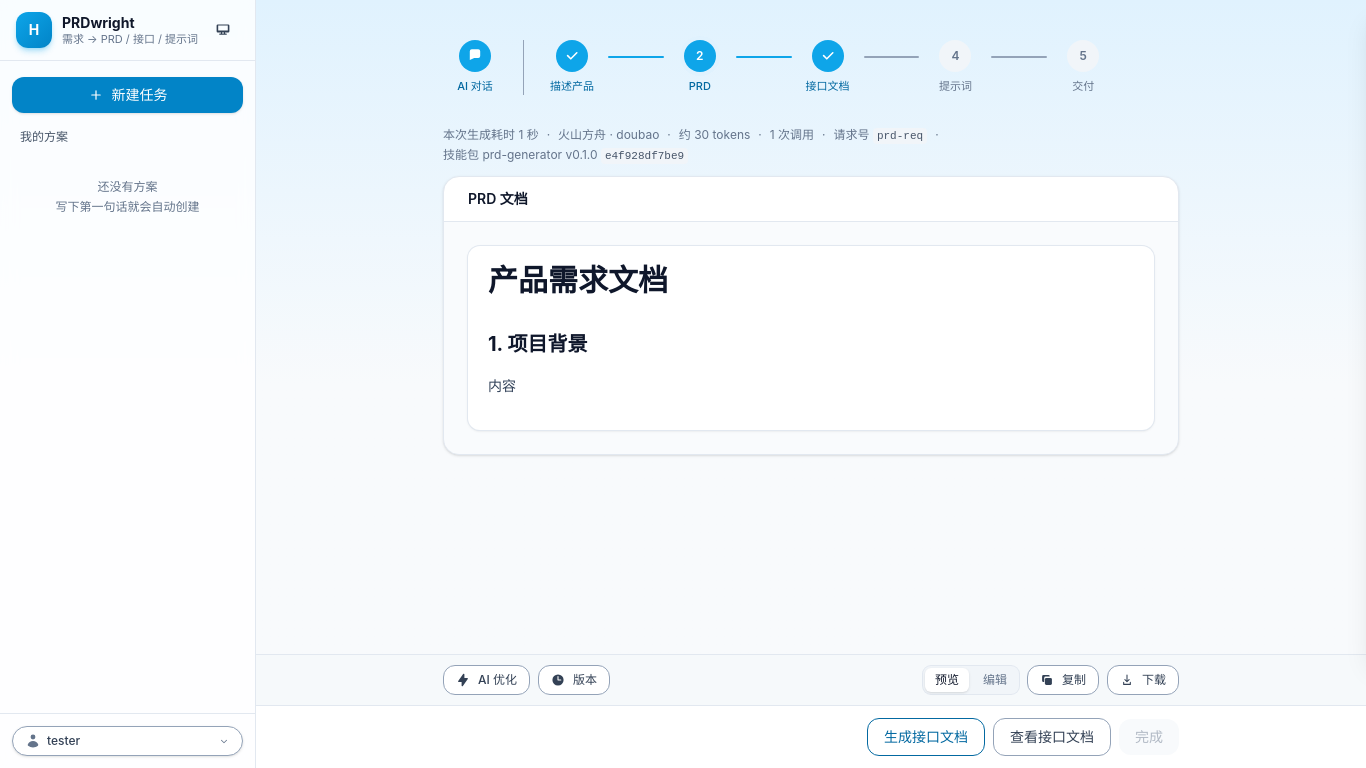
AppV2 完整流程编排 › 用量回执按文档各自留存：切到哪份文档就显示哪份的回执
Expected: the text "api-req" is not shown
Click the element showing "接口文档": x=828, y=66 [806,40,850,93]
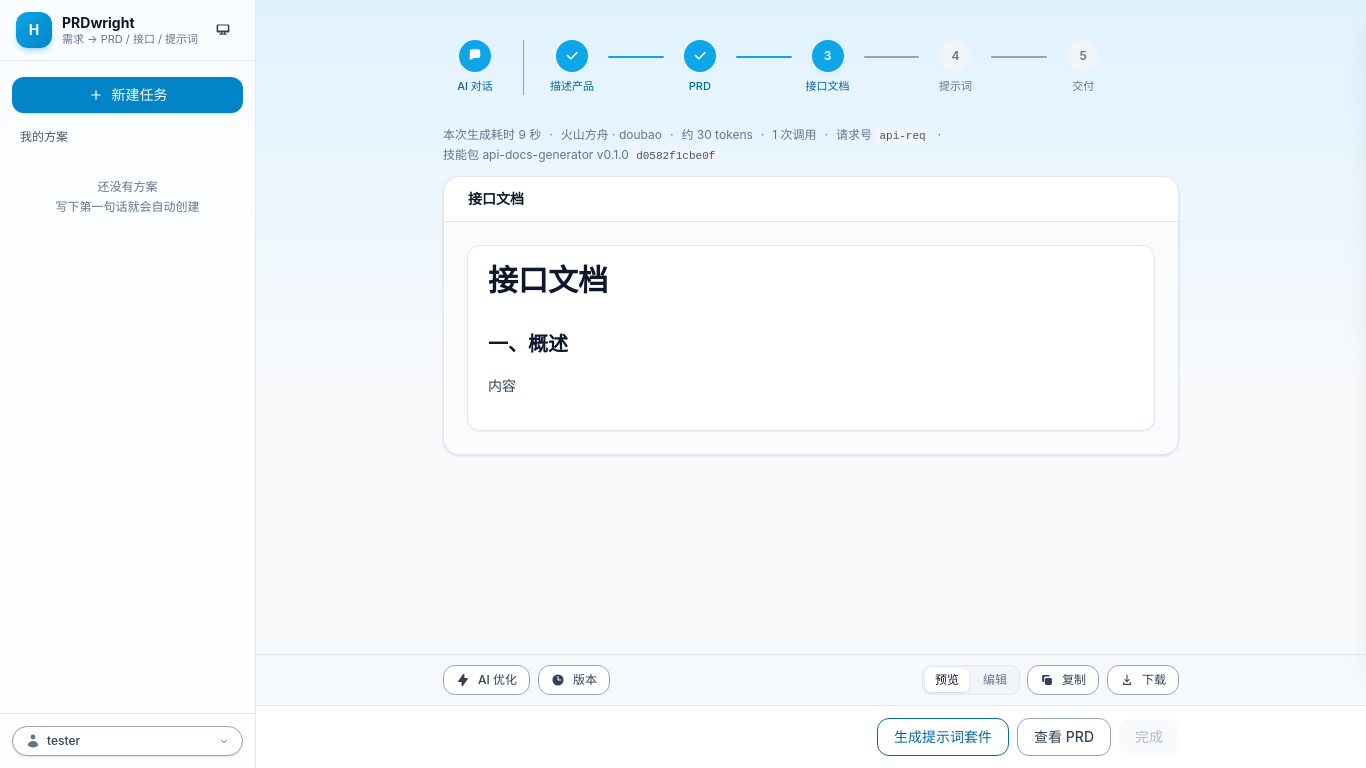
Expected: the text "api-req" is shown, [876,128,930,144]
Expected: the text "api-docs-generator" is shown, [443,147,632,162]
Expected: the text "prd-req" is gone
Click the element showing "PRD": x=700, y=66 [684,40,716,93]
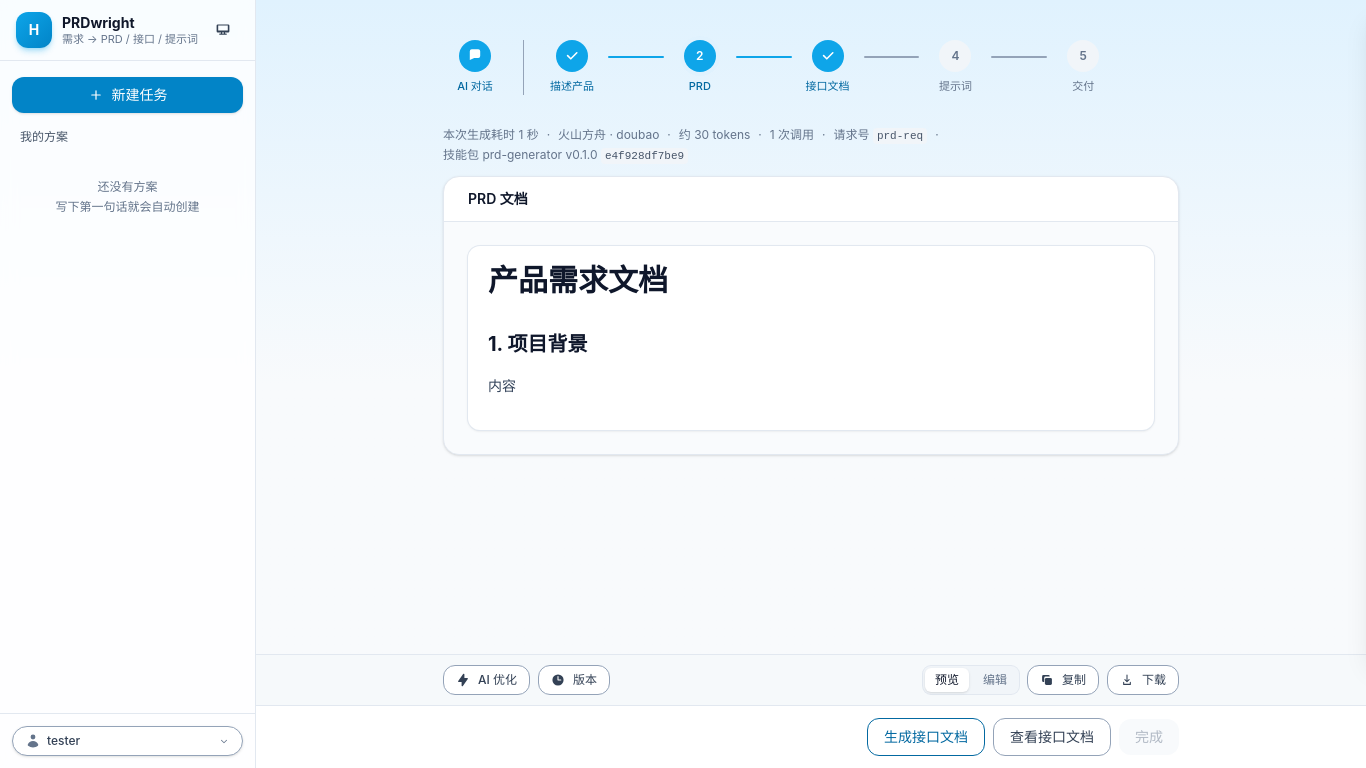
Expected: the text "prd-req" is shown, [873,128,927,144]
Expected: the text "api-req" is gone
